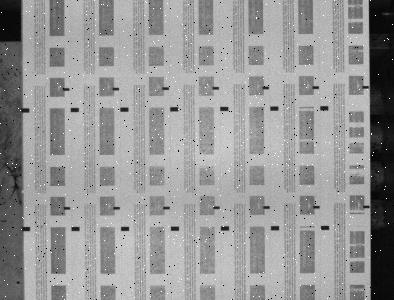qblock: (71, 226, 80, 231), (120, 107, 129, 112), (171, 226, 180, 231), (321, 225, 330, 230), (221, 226, 230, 231), (271, 106, 279, 111), (121, 226, 129, 231), (22, 226, 30, 231), (220, 107, 229, 111), (170, 107, 179, 111), (271, 226, 280, 230), (320, 106, 329, 110), (71, 108, 79, 112), (22, 108, 29, 112)
smallqblock: (263, 205, 270, 209), (113, 206, 120, 210), (64, 206, 71, 210), (213, 86, 220, 90), (363, 85, 370, 89), (63, 88, 70, 91), (163, 206, 170, 209), (163, 87, 170, 90), (263, 86, 270, 89), (364, 205, 371, 208), (313, 86, 320, 89), (313, 205, 320, 208), (214, 206, 220, 209), (113, 87, 119, 90)
